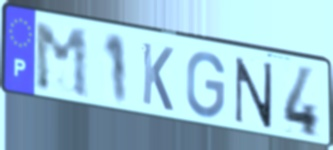1: (100, 33, 129, 109)
4: (281, 65, 323, 139)
G: (184, 50, 227, 121)
K: (140, 39, 175, 114)
M: (32, 21, 92, 102)
N: (232, 55, 275, 131)
